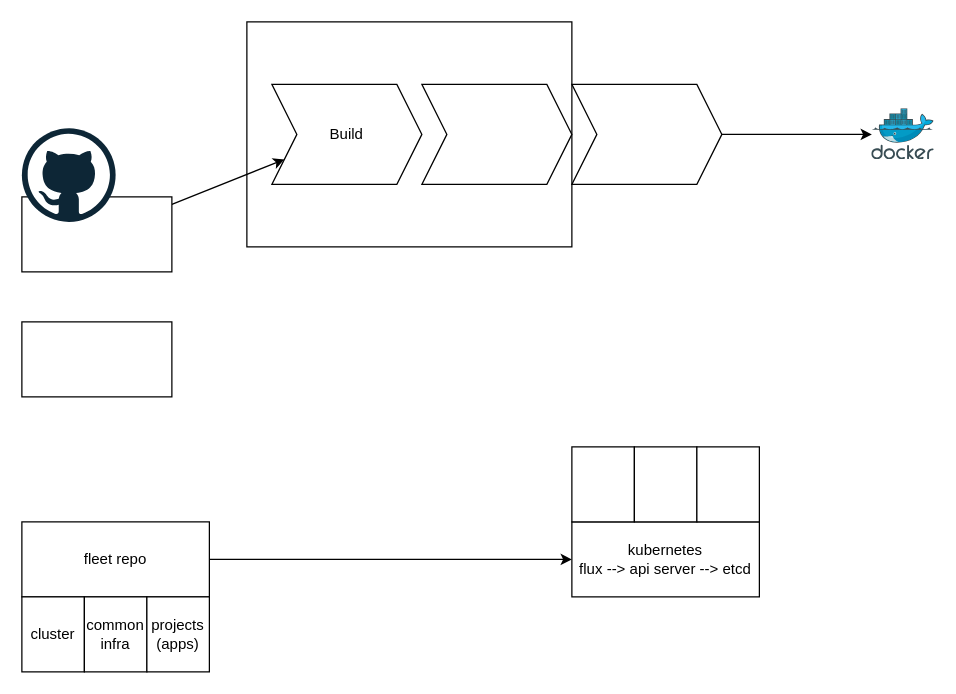
This 956x694 diagram has some shape labels left out. Here are the shapes that lost their labels. From the top down, the centre of each, then its label:
At (496,133): "Test".
At (646,133): "Publish".
At (96,234): "application".
At (96,359): "deploy repo yaml file".
